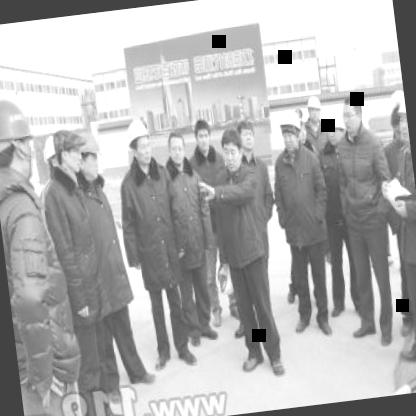head: (48, 122, 80, 180), (338, 93, 367, 137), (164, 124, 190, 172), (217, 126, 244, 172), (236, 114, 262, 156), (191, 113, 214, 155)
helmet: (0, 90, 41, 183), (124, 111, 157, 171), (72, 126, 106, 184), (276, 110, 308, 155), (386, 90, 410, 149), (319, 105, 347, 150), (304, 92, 324, 124)
